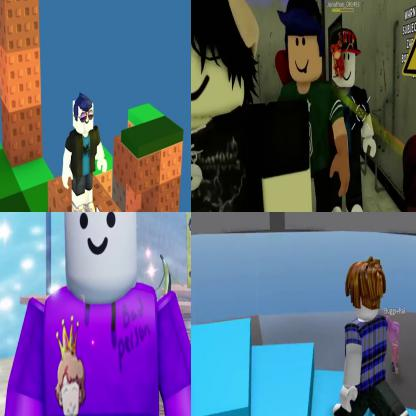Roblox-Avatar: (2, 213, 191, 416), (192, 1, 316, 212), (276, 1, 352, 212), (334, 256, 410, 416), (330, 28, 378, 212), (62, 93, 109, 212), (388, 316, 403, 375)
